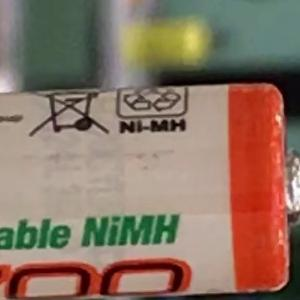keyword: (72, 205, 189, 257)
